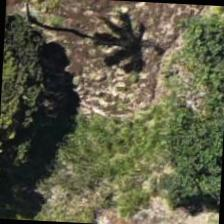Kelapa_Sawit: (2, 0, 82, 73)
